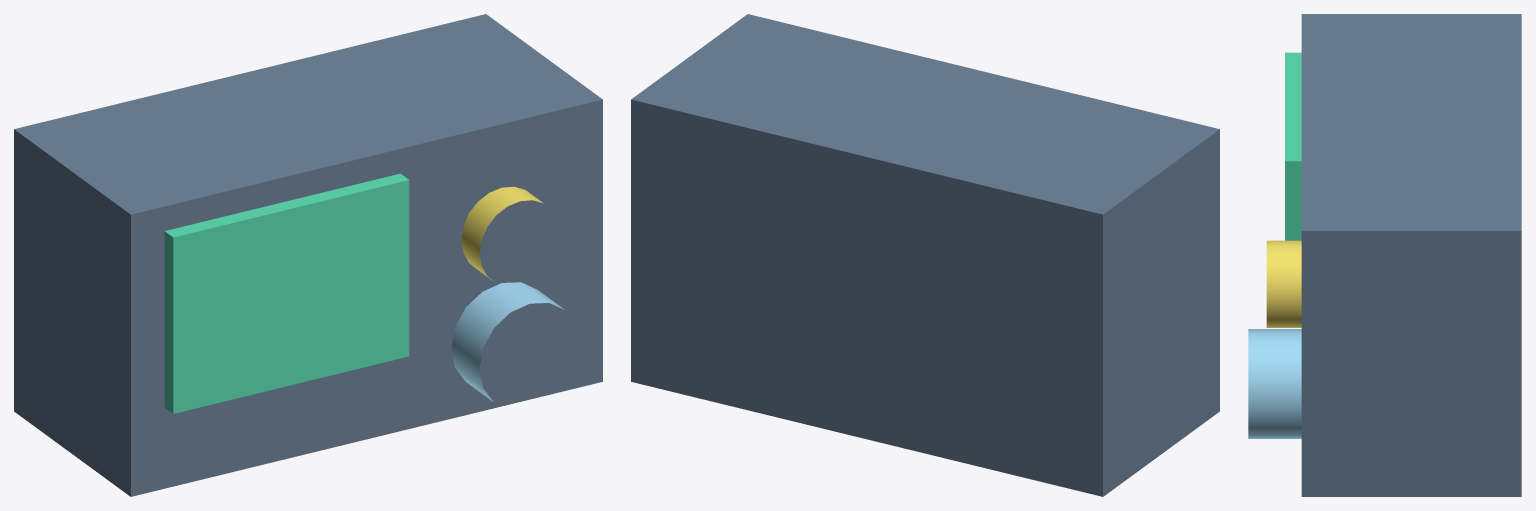
Rendered from am_fm_modulation_demodulation.glb.
3 views of the same model, side by side, from view 1: azimuth 30°, elevation 25°; view 2: azimuth 150°, elevation 25°; view 3: azimuth 270°, elevation 25° (orthographic). The views are drawn at different scales.
Parts seen in each view (by area): view 1: RFSignalGeneratorChassis, ModulatedOscilloscopeScreen, CarrierOscillatorTuningTank, ModulationIndexDialKnob; view 2: RFSignalGeneratorChassis; view 3: RFSignalGeneratorChassis, CarrierOscillatorTuningTank, ModulatedOscilloscopeScreen, ModulationIndexDialKnob.
Boxes of the visible parts, bbox=[...] form: RFSignalGeneratorChassis: bbox=[14, 14, 602, 496]; ModulatedOscilloscopeScreen: bbox=[164, 173, 409, 413]; CarrierOscillatorTuningTank: bbox=[451, 282, 564, 401]; ModulationIndexDialKnob: bbox=[461, 186, 543, 280]; RFSignalGeneratorChassis: bbox=[631, 14, 1219, 496]; RFSignalGeneratorChassis: bbox=[1301, 14, 1521, 496]; CarrierOscillatorTuningTank: bbox=[1248, 329, 1301, 438]; ModulatedOscilloscopeScreen: bbox=[1285, 52, 1301, 240]; ModulationIndexDialKnob: bbox=[1266, 240, 1301, 327].
Size of the model in its own units: 1.4 by 0.8 by 0.745.
